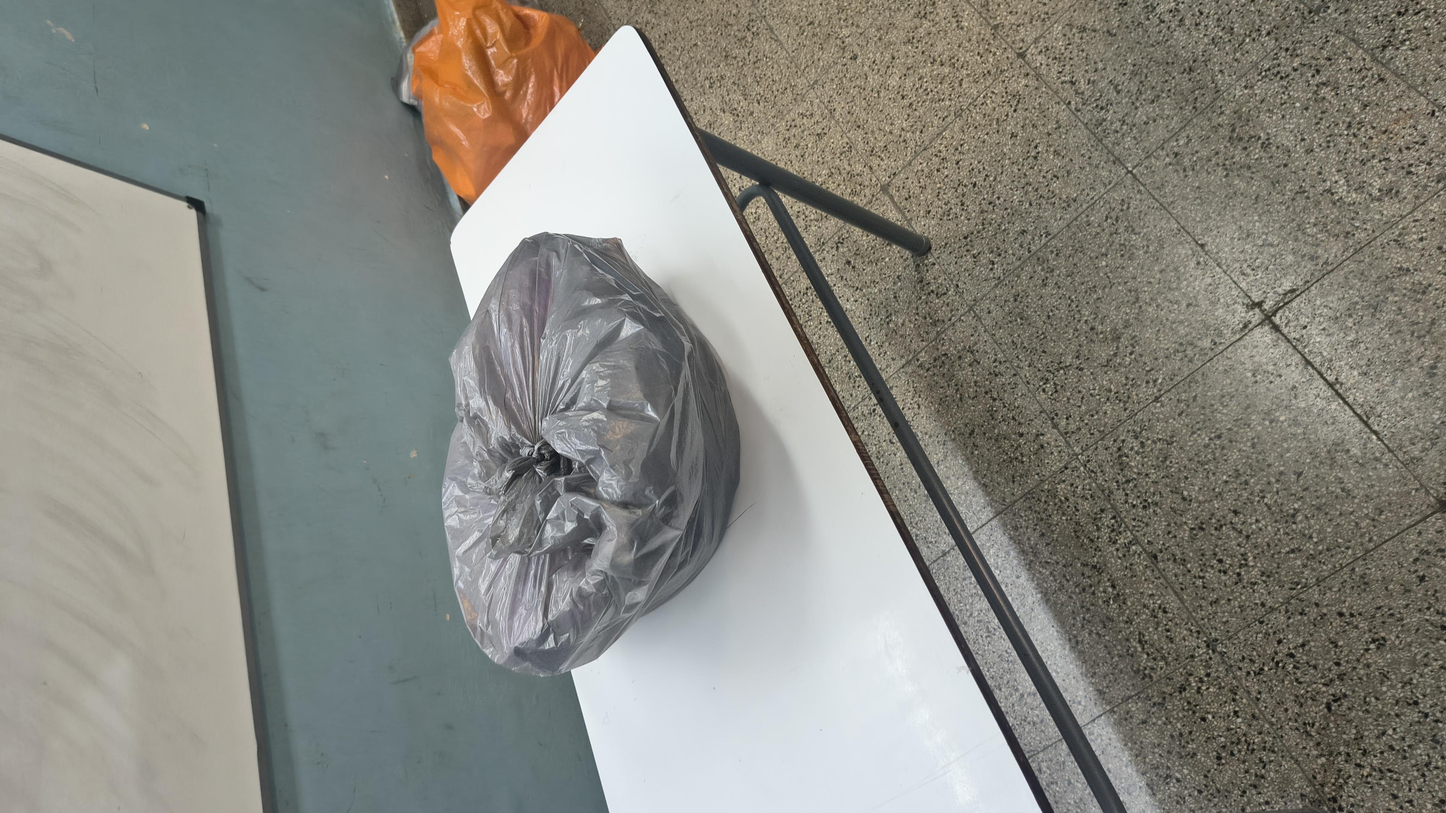Garbage: (195, 224, 1117, 427)
